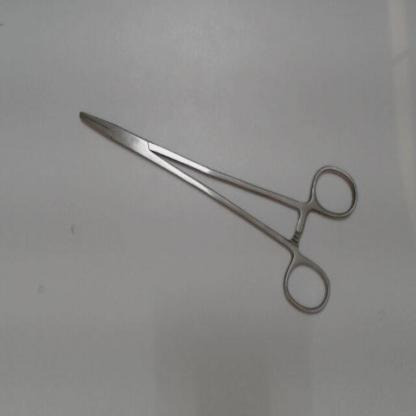8 Mayo Needle Holder: (66, 95, 367, 327)
